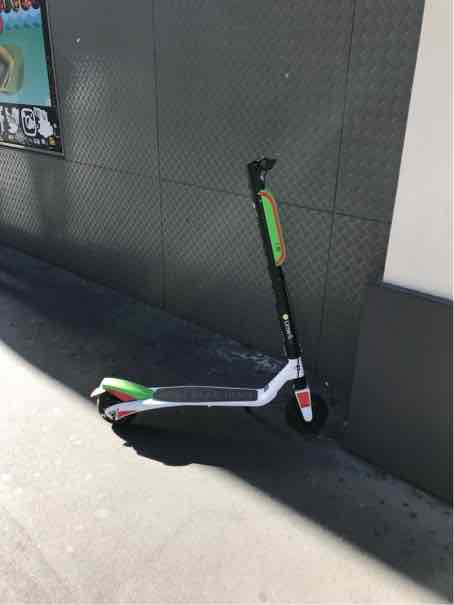scooter: (88, 135, 333, 446)
